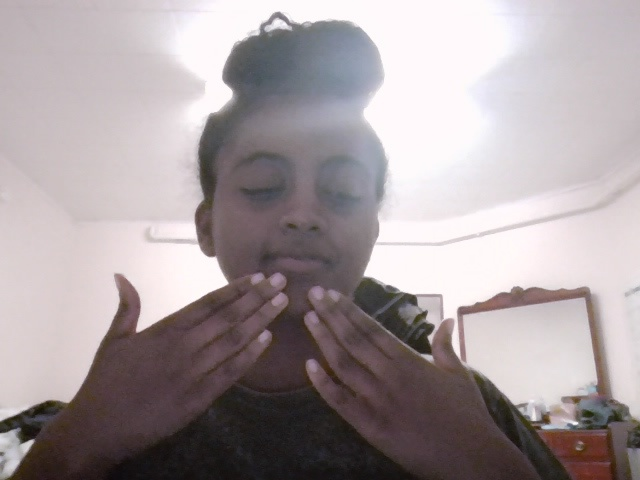Thanks: (33, 263, 513, 478)
